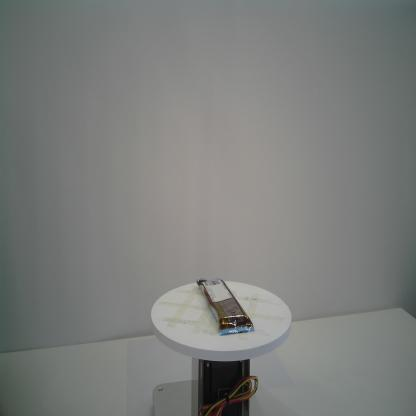Chocolate: (195, 277, 254, 336)
